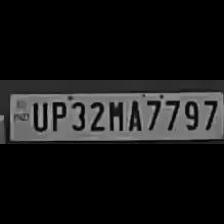2: (86, 98, 106, 132)
3: (66, 98, 86, 132)
7: (142, 97, 162, 131), (161, 96, 179, 132), (200, 97, 218, 131)
9: (179, 97, 199, 130)
A: (125, 98, 143, 132)
M: (105, 98, 124, 132)
P: (47, 98, 66, 132)
U: (28, 98, 48, 132)
